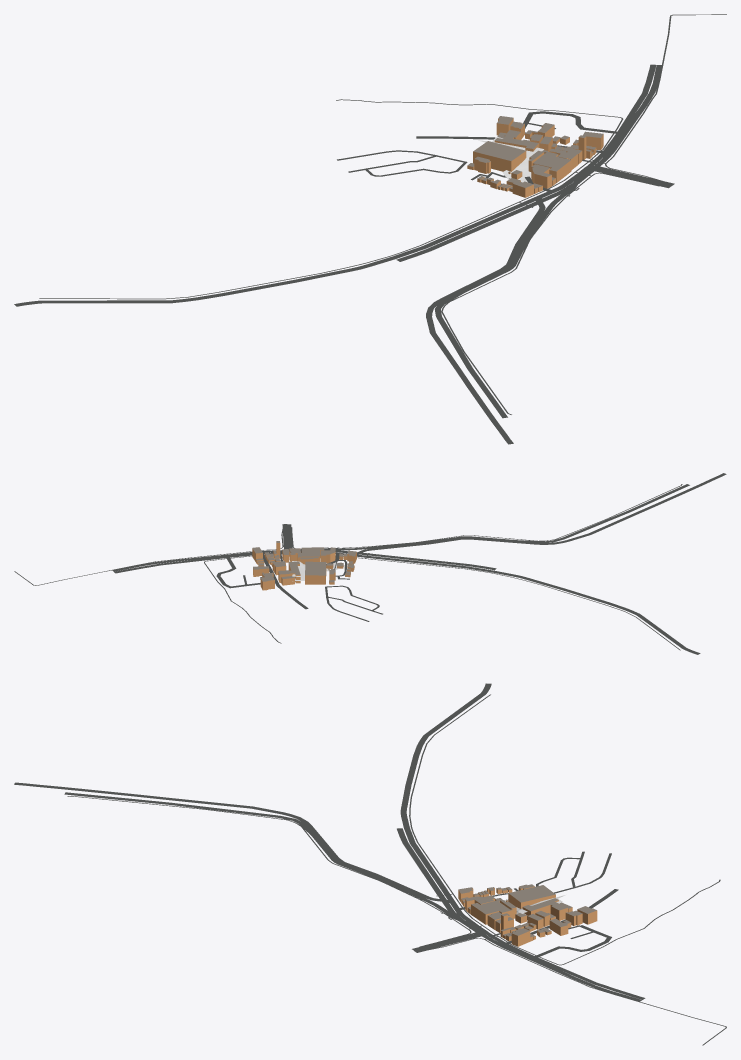
The model's file is sundaiyuka.fbx.
3 views of the same model, one above another, from view 1: azimuth 30°, elevation 25°; view 2: azimuth 150°, elevation 25°; view 3: azimuth 270°, elevation 25° (orthographic). The views are drawn at different scales.
Parts seen in each view (by area): view 1: map_3.osm_roads_secondary, map_3.osm_roads_primary, map_3.osm_paths_footway, map_3.osm_buildings.057, map_3.osm_roads_service; view 2: map_3.osm_roads_secondary, map_3.osm_roads_primary, map_3.osm_paths_footway, map_3.osm_buildings.057, map_3.osm_roads_service; view 3: map_3.osm_roads_secondary, map_3.osm_roads_primary, map_3.osm_paths_footway, map_3.osm_buildings.057.
Boxes of the visible parts, bbox=[...] form: map_3.osm_roads_secondary: bbox=[426, 64, 661, 444]; map_3.osm_roads_primary: bbox=[14, 165, 674, 306]; map_3.osm_paths_footway: bbox=[39, 14, 726, 414]; map_3.osm_buildings.057: bbox=[473, 141, 526, 171]; map_3.osm_roads_service: bbox=[337, 122, 593, 184]; map_3.osm_roads_secondary: bbox=[112, 473, 726, 573]; map_3.osm_roads_primary: bbox=[282, 524, 700, 654]; map_3.osm_paths_footway: bbox=[14, 484, 682, 650]; map_3.osm_buildings.057: bbox=[305, 561, 326, 584]; map_3.osm_roads_service: bbox=[243, 553, 382, 621]; map_3.osm_roads_secondary: bbox=[14, 782, 645, 1001]; map_3.osm_roads_primary: bbox=[397, 683, 491, 952]; map_3.osm_paths_footway: bbox=[67, 694, 726, 1045]; map_3.osm_buildings.057: bbox=[508, 885, 555, 908].
Size of the model in its own units: 126119 by 3805 by 104967.
